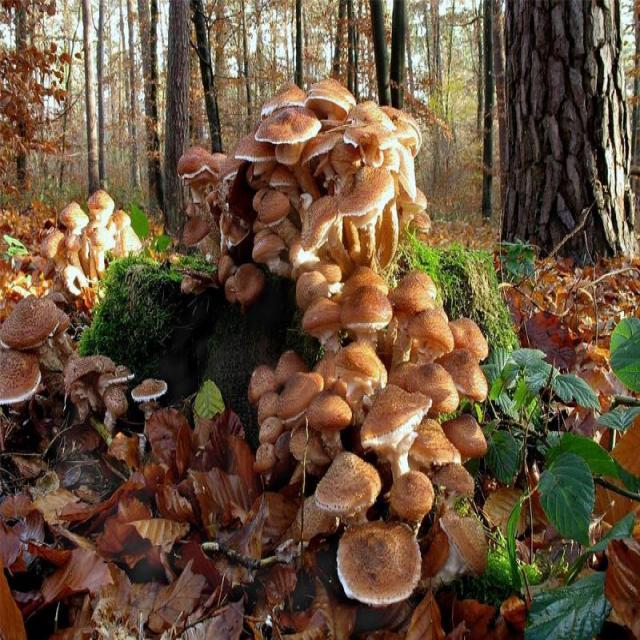Armillaria mellea: (180, 82, 489, 604), (2, 189, 167, 447)
